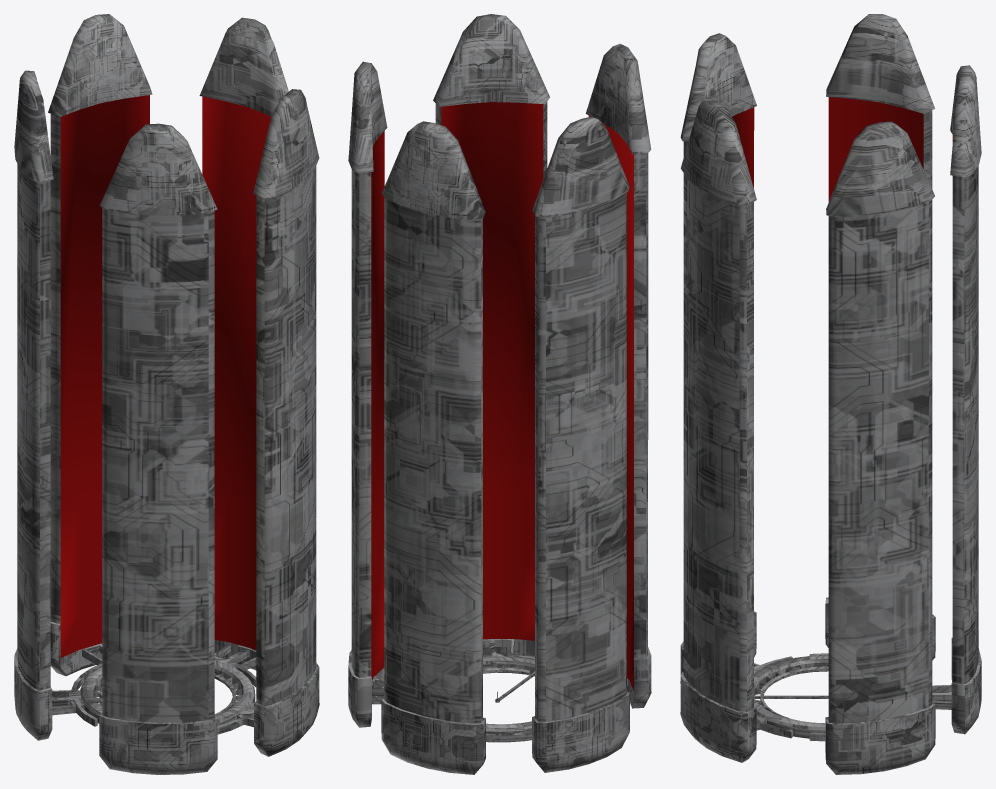
File: Citadel.FBX
3 renders of one model, left to right at view 1: azimuth 30°, elevation 25°; view 2: azimuth 150°, elevation 25°; view 3: azimuth 270°, elevation 25°, orthographic.
Parts seen in each view (by area): view 1: Wards, Presidium Ring; view 2: Wards, Presidium Ring; view 3: Wards, Presidium Ring.
Part boxes in pixels (x1,y1,x2,y2): Wards: (14,14,319,774); Presidium Ring: (52,643,256,734); Wards: (348,14,651,774); Presidium Ring: (372,639,628,742); Wards: (680,14,981,774); Presidium Ring: (754,653,951,741).
Size of the model in its own units: 244 by 570 by 241.
